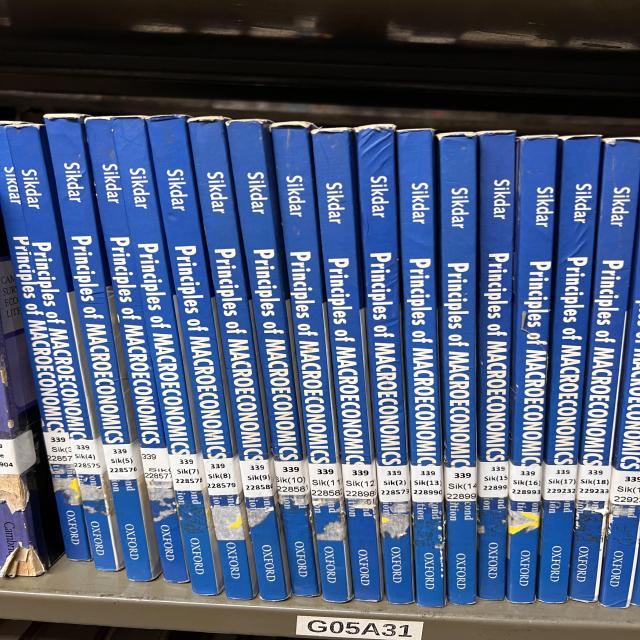Book: (45, 115, 160, 581), (148, 116, 257, 599), (113, 116, 222, 595), (7, 124, 123, 570), (188, 116, 290, 601), (87, 118, 188, 582), (227, 120, 320, 596), (0, 124, 92, 561), (272, 121, 352, 602), (312, 129, 383, 601), (570, 139, 640, 601), (537, 136, 600, 602), (355, 125, 413, 604), (507, 136, 558, 602), (397, 130, 445, 606), (0, 258, 62, 578), (438, 134, 478, 604), (478, 131, 513, 600), (600, 235, 640, 608)
Label: (0, 430, 37, 475), (103, 441, 143, 480), (203, 456, 242, 496), (168, 454, 207, 491), (70, 438, 107, 475), (240, 459, 275, 498), (273, 460, 310, 495), (308, 464, 343, 499), (342, 464, 377, 499), (377, 465, 410, 502), (410, 465, 443, 502), (443, 466, 477, 501), (140, 448, 172, 482), (43, 432, 73, 464)
